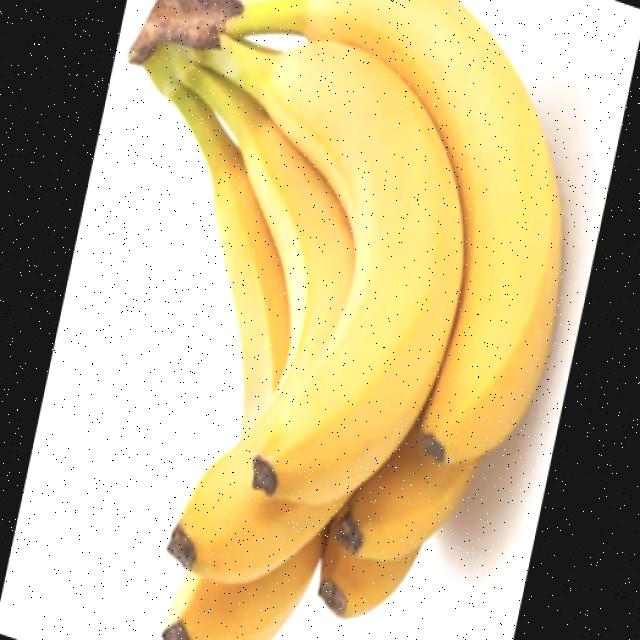god quality banana: (129, 0, 563, 637)
